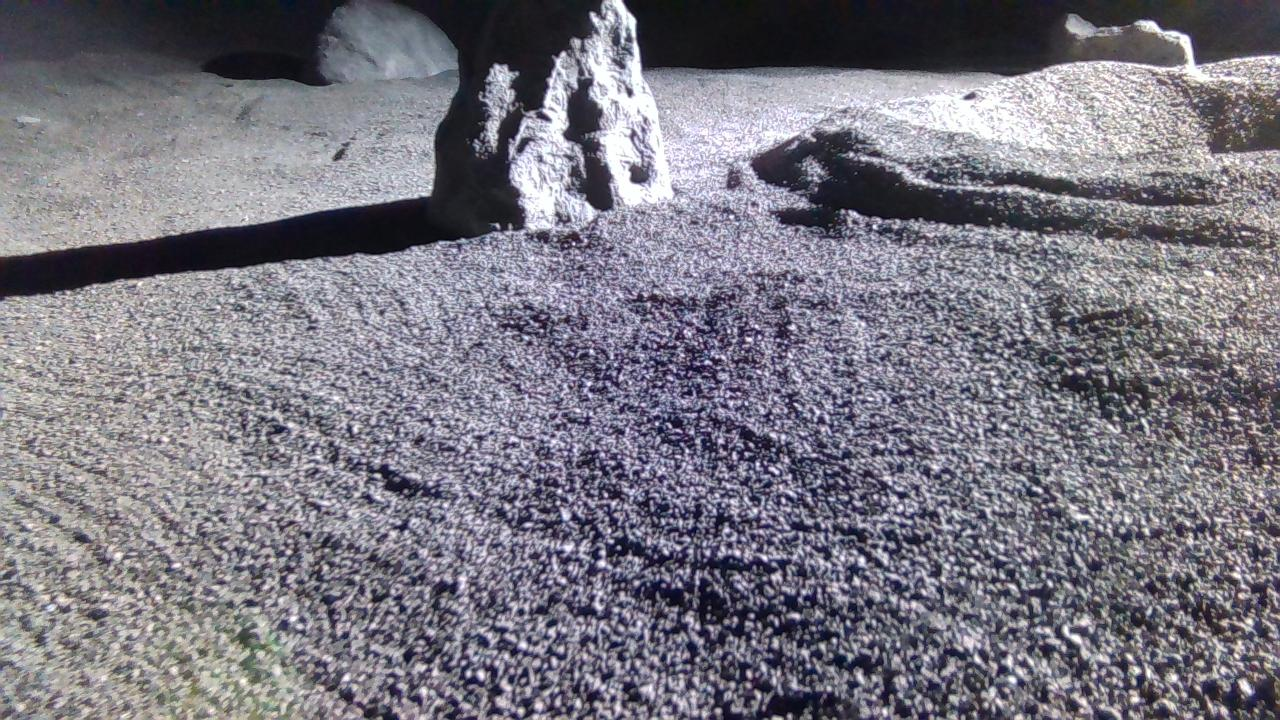rock: (428, 0, 673, 235), (317, 1, 458, 81), (1053, 11, 1197, 65)
